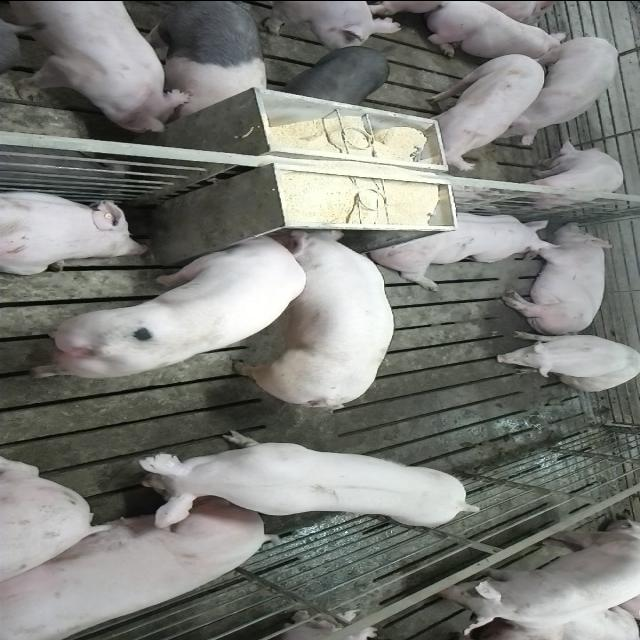Feeding: (27, 229, 310, 379), (234, 220, 395, 402)
Lateral_lying: (500, 222, 618, 336)
Sitting: (493, 331, 640, 391)
Standing: (126, 428, 486, 528), (0, 1, 194, 135), (426, 525, 640, 640), (128, 2, 270, 124), (415, 51, 549, 171), (494, 33, 622, 146), (510, 135, 626, 205), (280, 46, 394, 106)
Sternal_lying: (366, 208, 560, 288), (0, 186, 149, 272), (424, 3, 570, 60)
